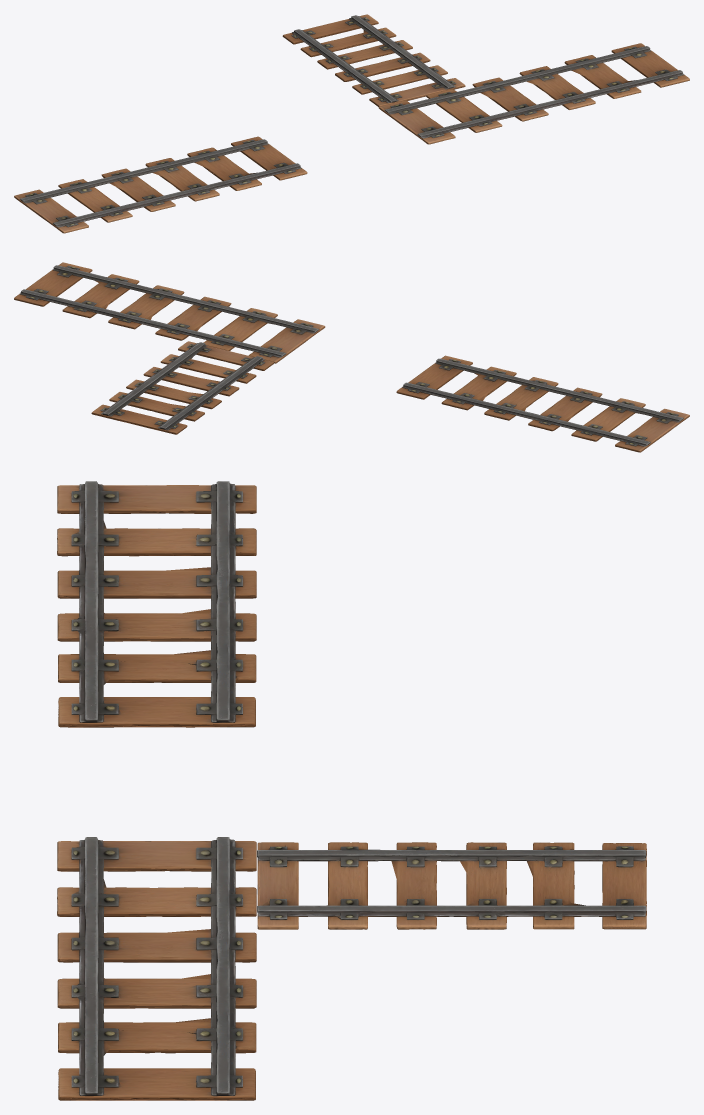
Rendered from cargo_tracks.glb.
The picture shows the model from 3 angles, top to bottom: view 1: azimuth 30°, elevation 25°; view 2: azimuth 150°, elevation 25°; view 3: azimuth 270°, elevation 25°; orthographic projection. The views are drawn at different scales.
Parts seen in each view (by area): view 1: DockTrack, ApproachTrack, MaintenanceTrack; view 2: DockTrack, ApproachTrack, MaintenanceTrack; view 3: DockTrack, ApproachTrack, MaintenanceTrack.
Boxes of the visible parts, x1,y1,x2,y2 form: DockTrack: [378, 43, 689, 144]; ApproachTrack: [14, 136, 307, 233]; MaintenanceTrack: [282, 14, 465, 106]; DockTrack: [14, 262, 325, 363]; ApproachTrack: [396, 355, 689, 452]; MaintenanceTrack: [91, 341, 273, 434]; DockTrack: [57, 837, 256, 1100]; ApproachTrack: [57, 481, 256, 727]; MaintenanceTrack: [257, 842, 646, 929].
Bounding box in the file's own units: 2.1 × 0.012 × 0.8547.
1 material, 1 textured.
